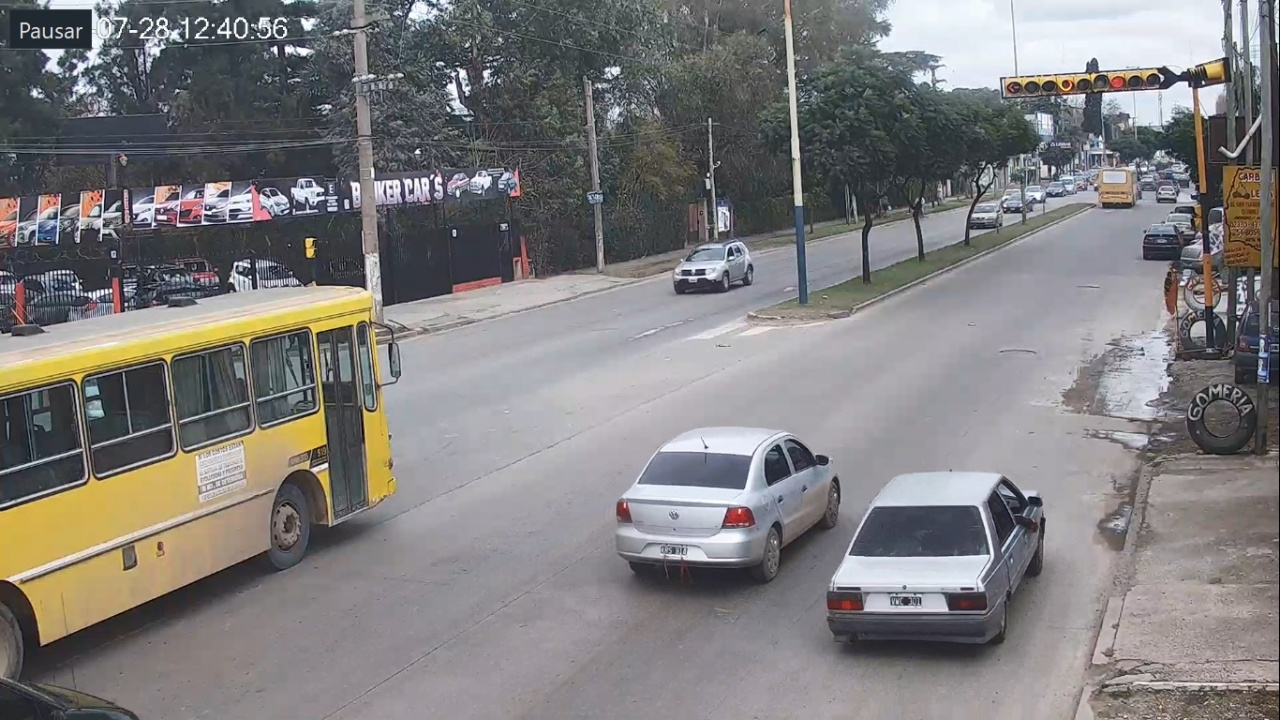bus: (1, 287, 402, 680)
car: (826, 472, 1045, 644), (615, 427, 840, 581)
front car: (673, 241, 754, 294)
traffic light: (1056, 69, 1159, 90)
